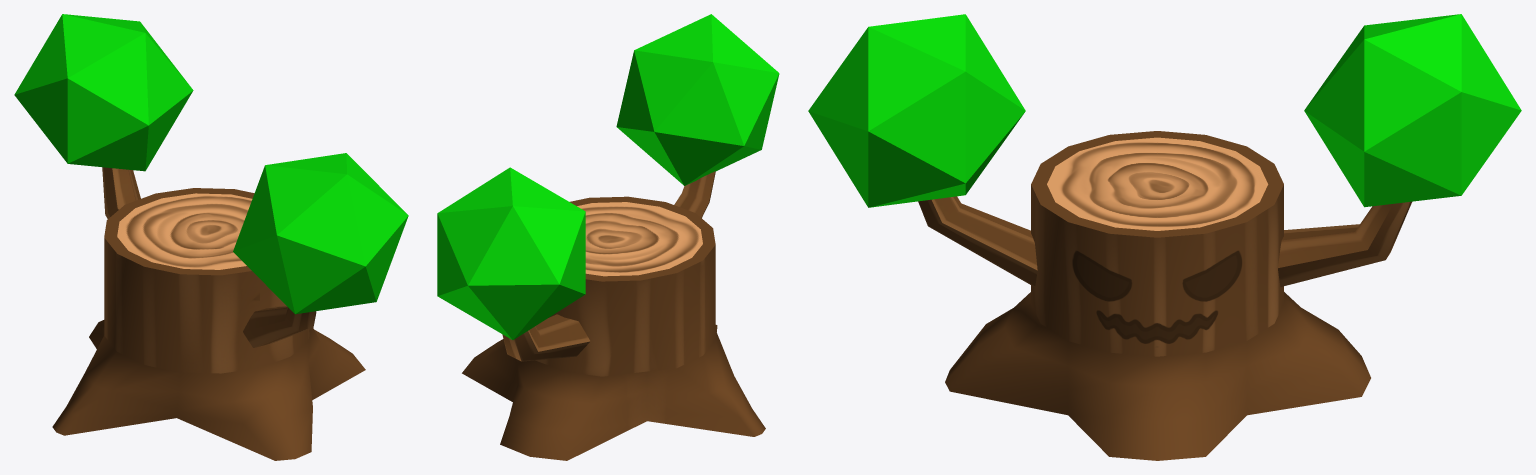
File: kirikabo.fbx
The picture shows the model from 3 angles, left to right: view 1: azimuth 30°, elevation 25°; view 2: azimuth 150°, elevation 25°; view 3: azimuth 270°, elevation 25°; orthographic projection. The views are drawn at different scales.
Parts seen in each view (by area): view 1: pCylinder12, pPlatonic1, pPlatonic2, pCylinder14, pCylinder16; view 2: pCylinder12, pPlatonic2, pPlatonic1, pCylinder16, pCylinder14; view 3: pCylinder12, pPlatonic2, pPlatonic1, pCylinder16, pCylinder14.
Boxes of the visible parts, x1=… form: pCylinder12: x1=52, y1=188, x2=365, y2=460; pPlatonic1: x1=233, y1=153, x2=408, y2=314; pPlatonic2: x1=14, y1=14, x2=193, y2=171; pCylinder14: x1=243, y1=306, x2=316, y2=347; pCylinder16: x1=102, y1=167, x2=140, y2=218; pCylinder12: x1=462, y1=196, x2=765, y2=460; pPlatonic2: x1=437, y1=167, x2=585, y2=339; pPlatonic1: x1=616, y1=14, x2=779, y2=185; pCylinder16: x1=502, y1=314, x2=590, y2=361; pCylinder14: x1=674, y1=171, x2=715, y2=217; pCylinder12: x1=945, y1=131, x2=1370, y2=460; pPlatonic2: x1=1304, y1=14, x2=1521, y2=207; pPlatonic1: x1=808, y1=14, x2=1025, y2=207; pCylinder16: x1=1278, y1=201, x2=1411, y2=286; pCylinder14: x1=918, y1=196, x2=1037, y2=286.
Bounding box in the file's own units: 6.68 × 6.53 × 11.48.
